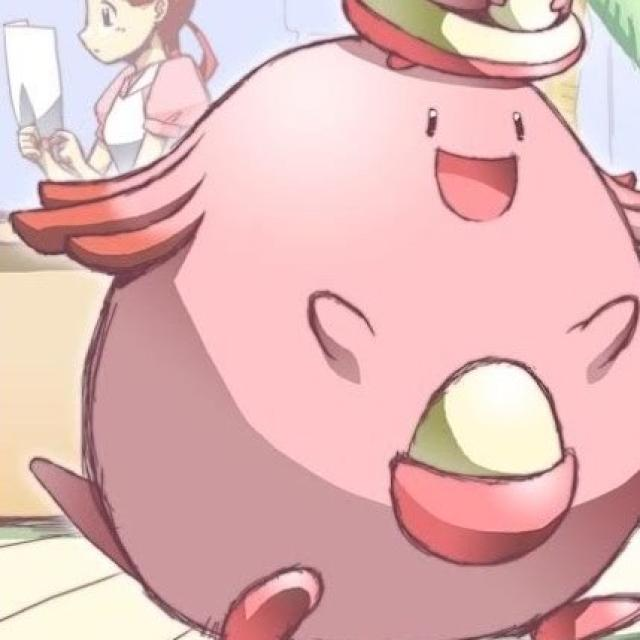Chansey: (42, 35, 640, 635)
